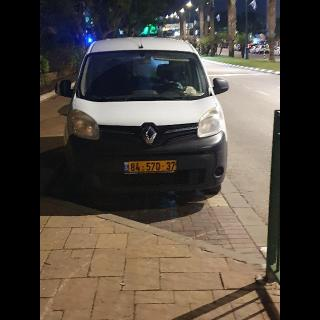LicensePlate: (129, 160, 176, 172)
